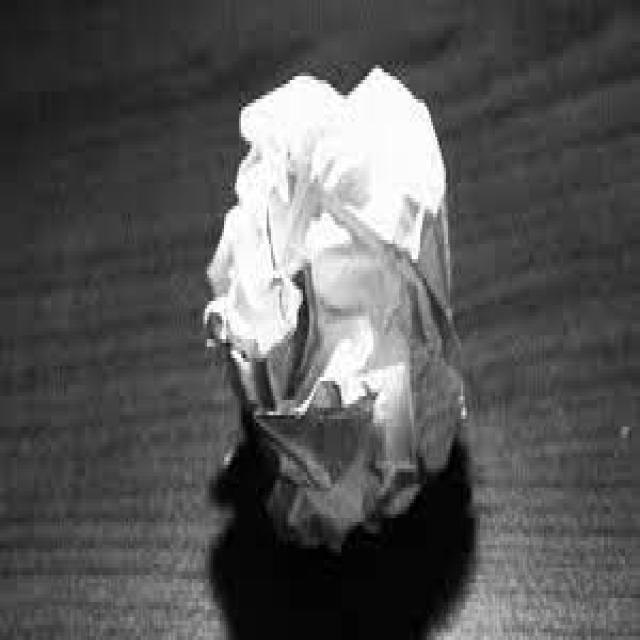PaperCardboard: (210, 55, 462, 539)
